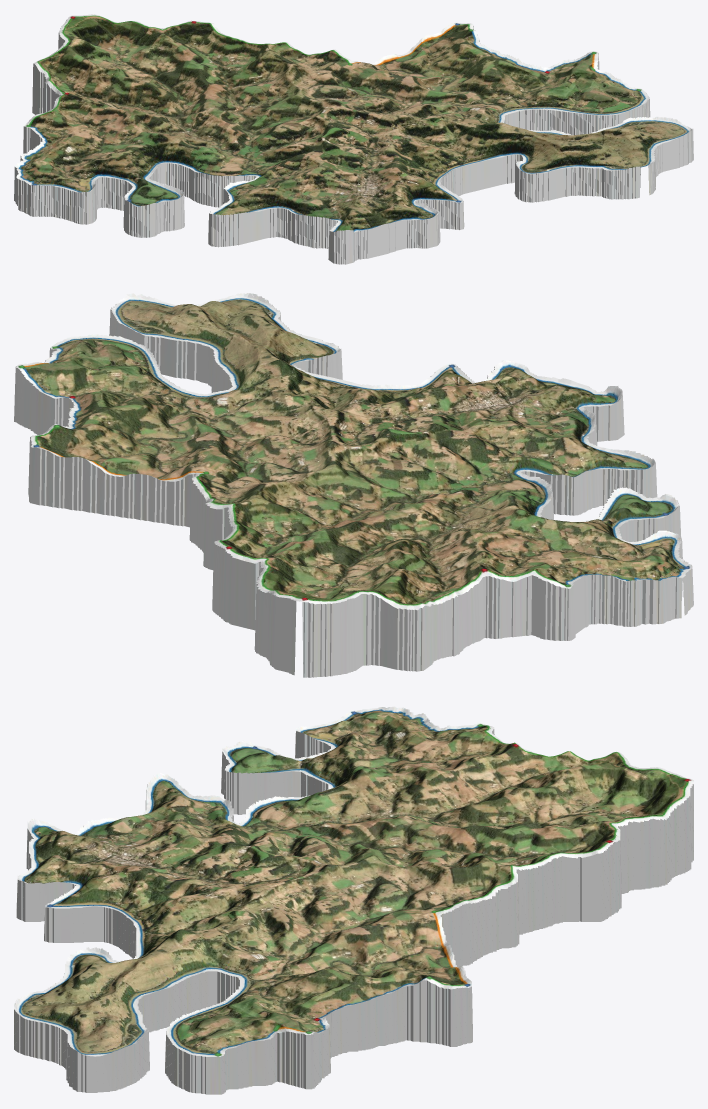
3 views of the same model, one above another, from view 1: azimuth 30°, elevation 25°; view 2: azimuth 150°, elevation 25°; view 3: azimuth 270°, elevation 25° (orthographic). The views are drawn at different scales.
Bounding box in the file's own units: 1 × 0.102 × 0.8253.
Materials: 1 (1 with a texture image).
